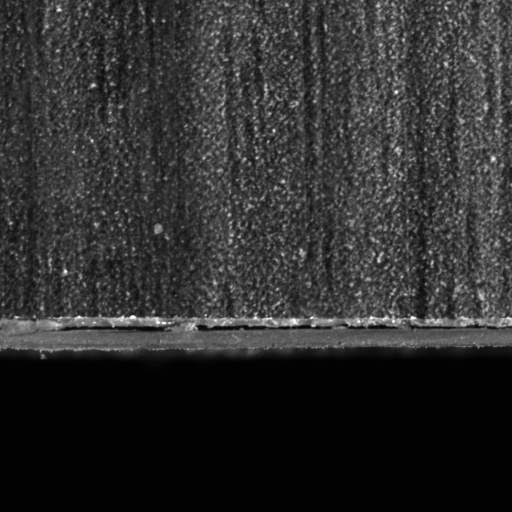kaijiao: (0, 311, 511, 355)
